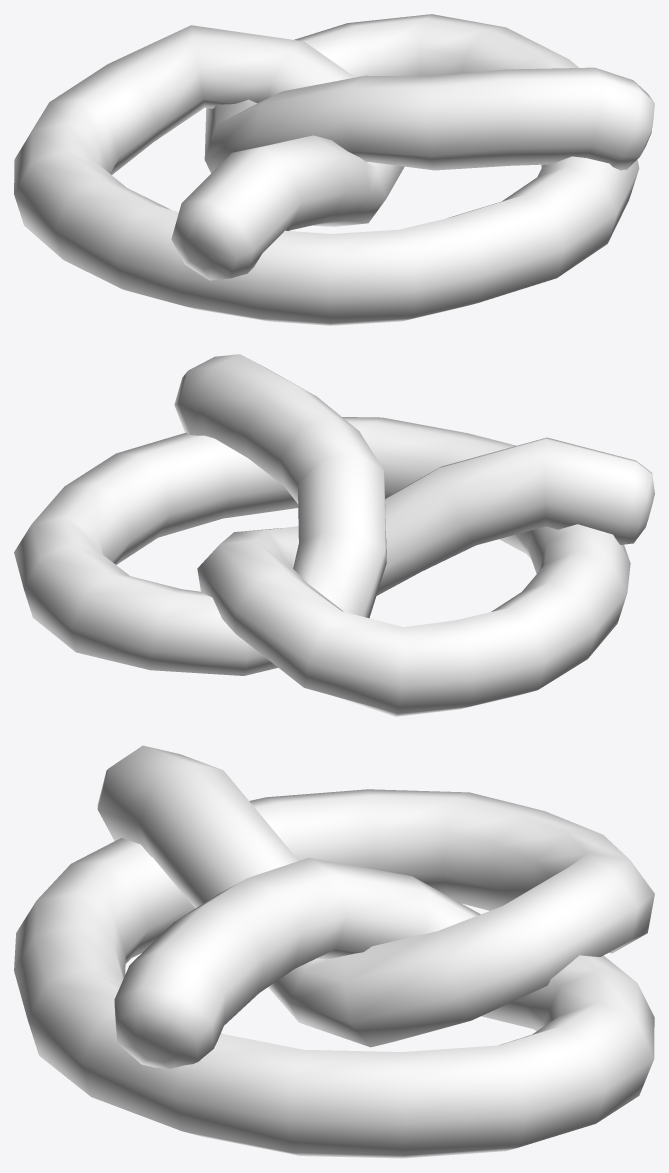
File: Pretzel.fbx
The picture shows the model from 3 angles, top to bottom: view 1: azimuth 30°, elevation 25°; view 2: azimuth 150°, elevation 25°; view 3: azimuth 270°, elevation 25°; orthographic projection. The views are drawn at different scales.
Parts seen in each view (by area): view 1: Pretzel; view 2: Pretzel; view 3: Pretzel.
Part boxes in pixels (x1=…): Pretzel: x1=14, y1=14, x2=654, y2=325; Pretzel: x1=14, y1=354, x2=654, y2=716; Pretzel: x1=14, y1=745, x2=654, y2=1158.
Size of the model in its own units: 143 by 40.01 by 126.
